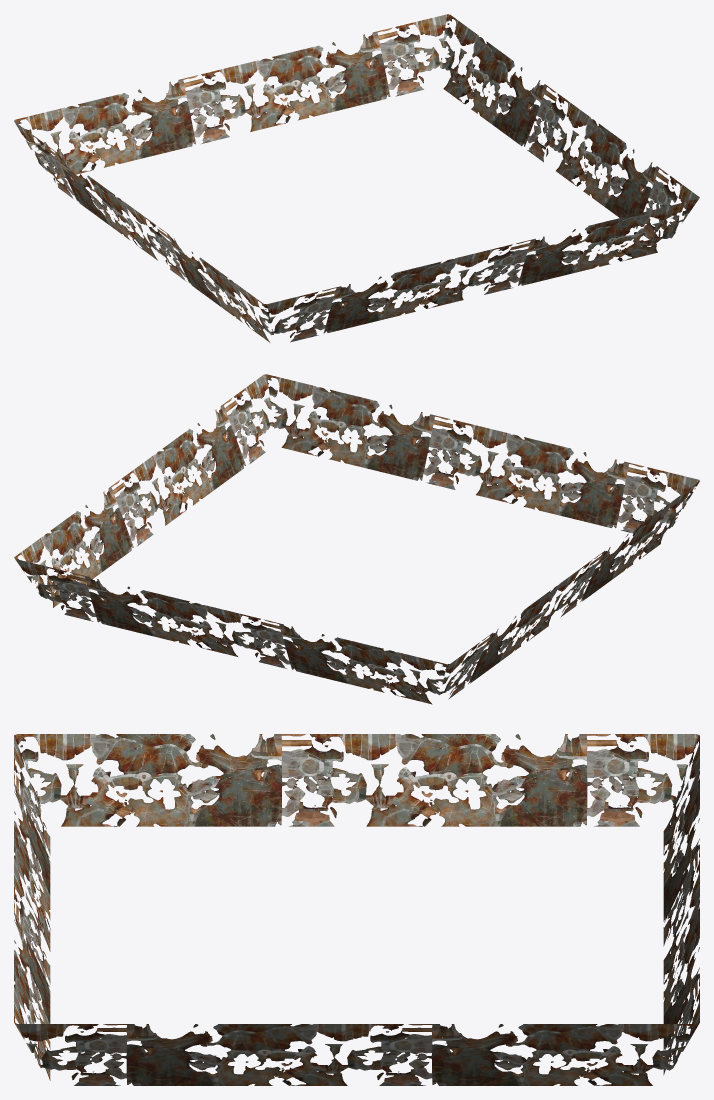
3 views of the same model, one above another, from view 1: azimuth 30°, elevation 25°; view 2: azimuth 150°, elevation 25°; view 3: azimuth 270°, elevation 25° (orthographic). The views are drawn at different scales.
Visible parts, largest first — view 1: SM_Metal_Ingot_01_LOD0; view 2: SM_Metal_Ingot_01_LOD0; view 3: SM_Metal_Ingot_01_LOD0.
Part boxes in pixels (<box>): SM_Metal_Ingot_01_LOD0: <box>14,14,699,342</box>; SM_Metal_Ingot_01_LOD0: <box>14,374,699,704</box>; SM_Metal_Ingot_01_LOD0: <box>14,734,699,1085</box>.
Size of the model in its own units: 6.11 by 0.7603 by 6.11.
